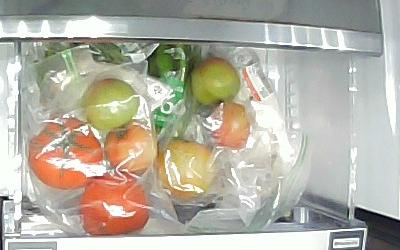tomato_vinyl: (26, 116, 102, 189), (78, 169, 150, 235), (151, 134, 216, 198), (83, 77, 140, 132), (188, 55, 240, 106), (102, 122, 154, 173), (208, 100, 251, 149)
